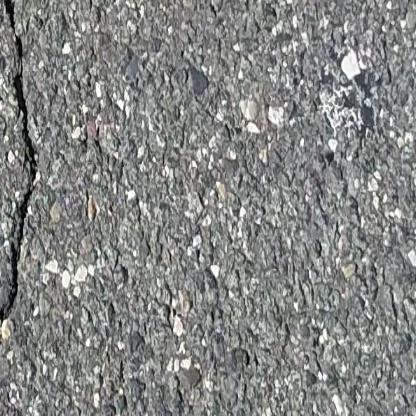Cracks: (0, 0, 43, 416)
